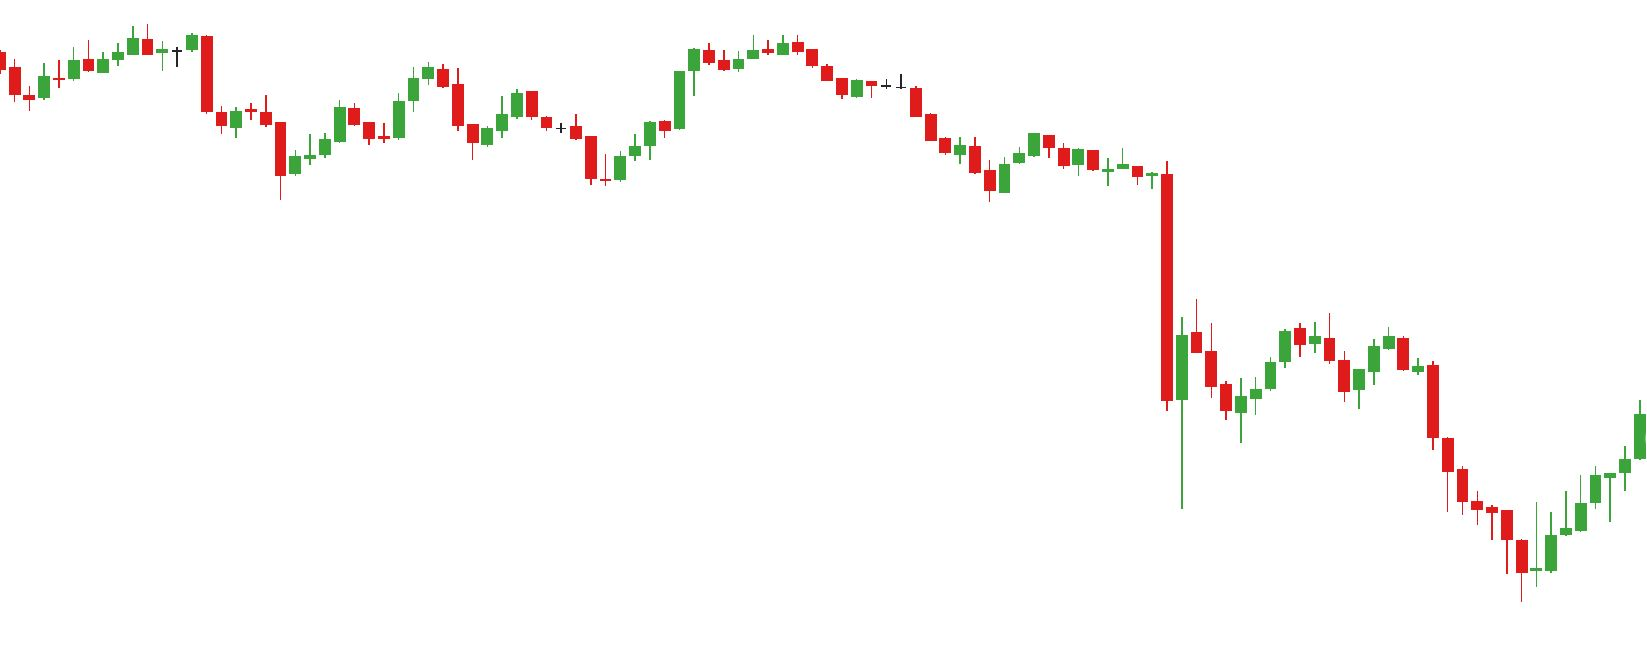buy: (465, 101, 627, 185)
